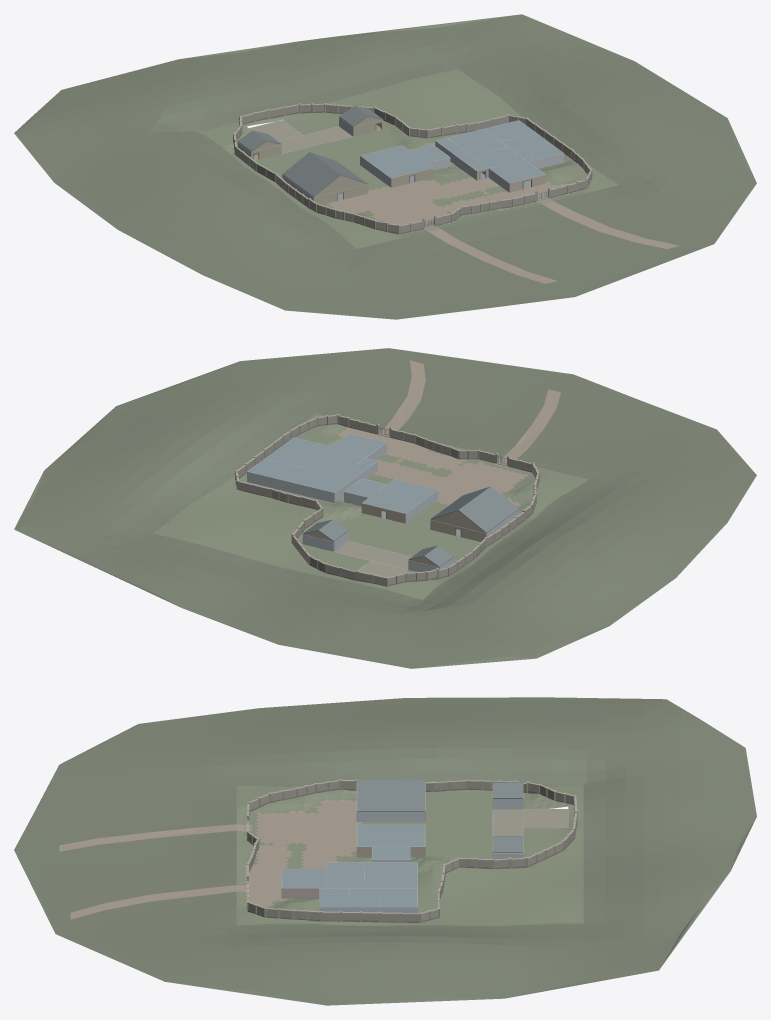
File: grounds-with-refuges.glb
3 renders of one model, top to bottom at view 1: azimuth 30°, elevation 25°; view 2: azimuth 150°, elevation 25°; view 3: azimuth 270°, elevation 25°, orthographic. The views are drawn at different scales.
Parts seen in each view (by area): view 1: Joined cemetery exterior landform, WLD-07-MORTUARY saved ground, Cemetery enclosure bonded piers, WLD-07-MORTUARY chapel west slope, Ceiling cap cottage, WLD-07-MORTUARY ossuary full deck region0, Ceiling cap mort-viewing, Ceiling cap mort-bay, Ceiling cap mort-reception, Ceiling cap mort-prep, WLD-07-MORTUARY archive full cover region0; view 2: Joined cemetery exterior landform, WLD-07-MORTUARY saved ground, Cemetery enclosure bonded piers, WLD-07-MORTUARY chapel west slope, Ceiling cap cottage, WLD-07-MORTUARY ossuary full deck region0, Ceiling cap mort-viewing, Ceiling cap mort-bay, Ceiling cap mort-prep, Ceiling cap mort-reception, Ceiling cap mort-cold, Ceiling cap mort-hall (+1 smaller); view 3: Joined cemetery exterior landform, WLD-07-MORTUARY saved ground, WLD-07-MORTUARY chapel east slope, Cemetery enclosure bonded piers, Ceiling cap cottage, Ceiling cap mort-viewing, WLD-07-MORTUARY archive full cover region0, Ceiling cap mort-bay, WLD-07-MORTUARY ossuary full deck region0, Ceiling cap mort-prep, Wall chapel E, Ceiling cap mort-reception (+3 smaller).
Part boxes in pixels (left/top/right/bottom): Joined cemetery exterior landform: left=14, top=14, right=756, bottom=319; WLD-07-MORTUARY saved ground: left=199, top=69, right=618, bottom=248; Cemetery enclosure bonded piers: left=233, top=103, right=592, bottom=234; WLD-07-MORTUARY chapel west slope: left=282, top=152, right=340, bottom=197; Ceiling cap cottage: left=361, top=145, right=432, bottom=177; WLD-07-MORTUARY ossuary full deck region0: left=278, top=126, right=352, bottom=153; Ceiling cap mort-viewing: left=448, top=129, right=506, bottom=155; Ceiling cap mort-bay: left=489, top=159, right=544, bottom=182; Ceiling cap mort-reception: left=472, top=147, right=523, bottom=167; Ceiling cap mort-prep: left=483, top=120, right=535, bottom=141; WLD-07-MORTUARY archive full cover region0: left=249, top=120, right=302, bottom=141; Joined cemetery exterior landform: left=14, top=348, right=756, bottom=668; WLD-07-MORTUARY saved ground: left=153, top=413, right=588, bottom=599; Cemetery enclosure bonded piers: left=234, top=413, right=539, bottom=586; WLD-07-MORTUARY chapel west slope: left=458, top=486, right=518, bottom=533; Ceiling cap cottage: left=362, top=479, right=437, bottom=513; WLD-07-MORTUARY ossuary full deck region0: left=335, top=541, right=411, bottom=569; Ceiling cap mort-viewing: left=285, top=462, right=346, bottom=489; Ceiling cap mort-bay: left=328, top=433, right=386, bottom=457; Ceiling cap mort-prep: left=247, top=458, right=301, bottom=480; Ceiling cap mort-reception: left=310, top=449, right=364, bottom=471; Ceiling cap mort-cold: left=265, top=448, right=316, bottom=467; Ceiling cap mort-hall: left=322, top=458, right=376, bottom=492; Joined cemetery exterior landform: left=14, top=697, right=756, bottom=1005; WLD-07-MORTUARY saved ground: left=236, top=785, right=583, bottom=926; WLD-07-MORTUARY chapel east slope: left=357, top=779, right=424, bottom=811; Cemetery enclosure bonded piers: left=246, top=779, right=577, bottom=922; Ceiling cap cottage: left=357, top=824, right=424, bottom=846; Ceiling cap mort-viewing: left=364, top=869, right=417, bottom=887; WLD-07-MORTUARY archive full cover region0: left=523, top=809, right=568, bottom=828; Ceiling cap mort-bay: left=281, top=869, right=326, bottom=887; WLD-07-MORTUARY ossuary full deck region0: left=493, top=809, right=522, bottom=836; Ceiling cap mort-prep: left=380, top=888, right=417, bottom=907; Wall chapel E: left=357, top=811, right=424, bottom=821; Ceiling cap mort-reception: left=327, top=869, right=364, bottom=887.
Bounding box in the file's own units: 192 × 11.28 × 197.
43 materials, 28 textured.
